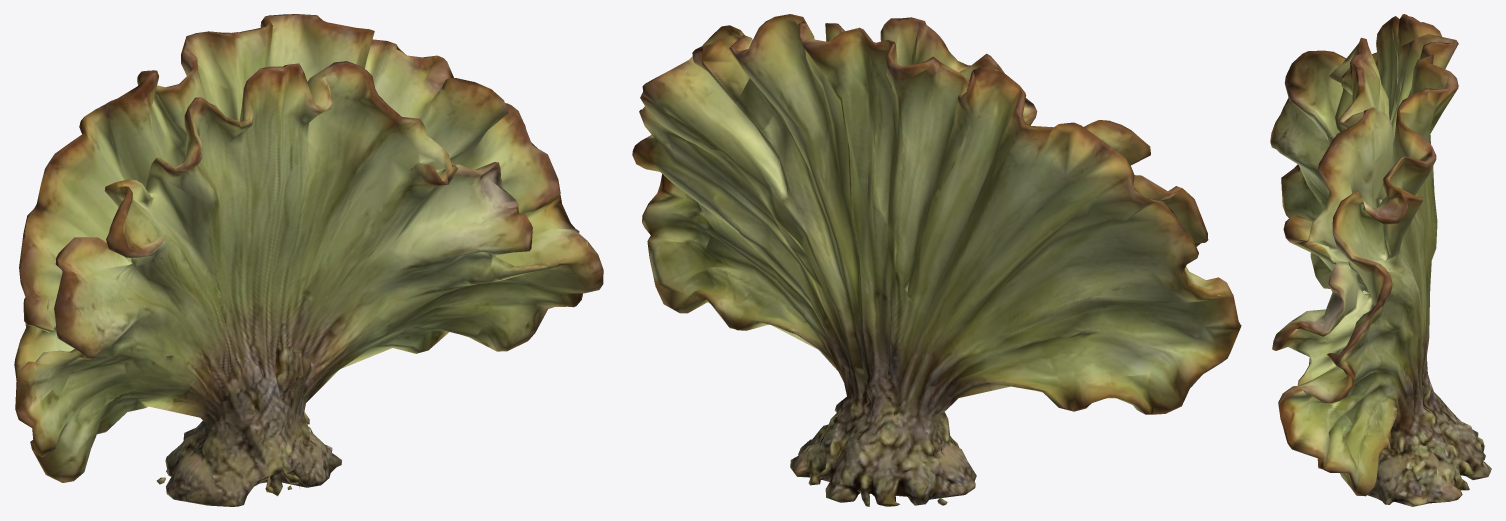
The model's file is fanweed-lod.glb.
3 views of the same model, side by side, from view 1: azimuth 30°, elevation 25°; view 2: azimuth 150°, elevation 25°; view 3: azimuth 270°, elevation 25° (orthographic). The views are drawn at different scales.
Parts seen in each view (by area): view 1: model; view 2: model; view 3: model.
Part boxes in pixels (x1,y1,x2,y2): model: (14,14,603,506); model: (632,14,1241,506); model: (1270,14,1491,506).
Size of the model in its own units: 1.88 by 1.37 by 0.6505.
1 material, 1 textured.
